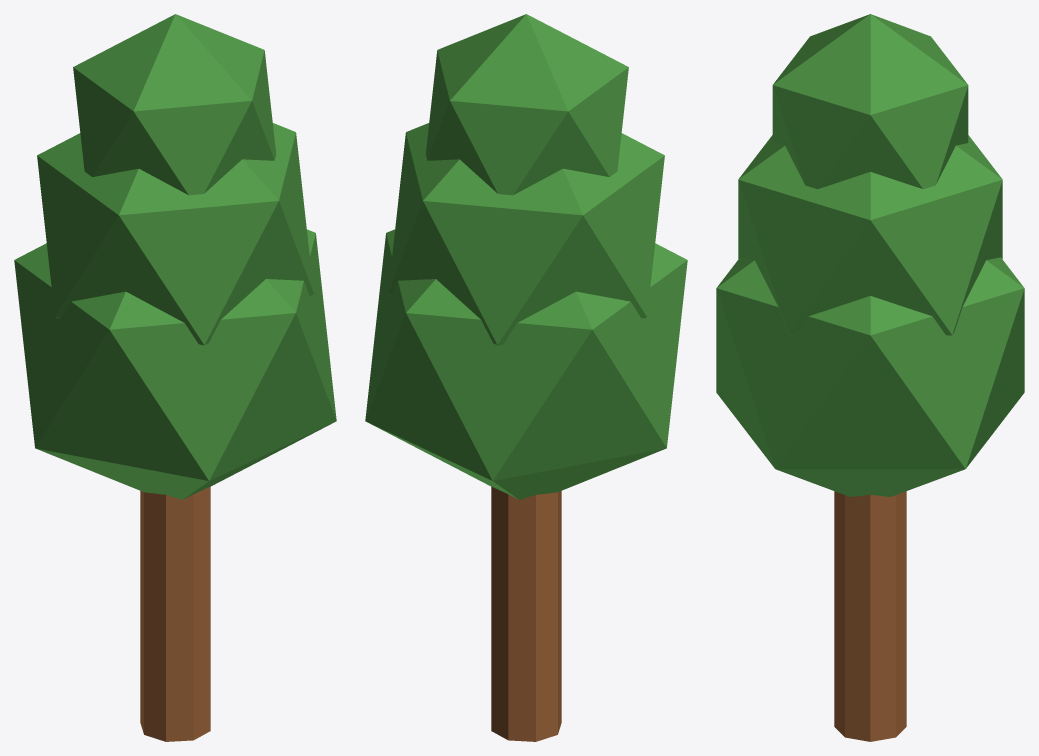
The model's file is prop_pohon.fbx.
The picture shows the model from 3 angles, left to right: view 1: azimuth 30°, elevation 25°; view 2: azimuth 150°, elevation 25°; view 3: azimuth 270°, elevation 25°; orthographic projection.
Visible parts, largest first — view 1: prop_pohon; view 2: prop_pohon; view 3: prop_pohon.
Boxes of the visible parts, box(x1,y1,x2,y2) form: prop_pohon: box(14, 14, 336, 741); prop_pohon: box(365, 14, 687, 741); prop_pohon: box(716, 14, 1024, 741).
Bounding box in the file's own units: 152 × 369 × 145.
1 material, 1 textured.
